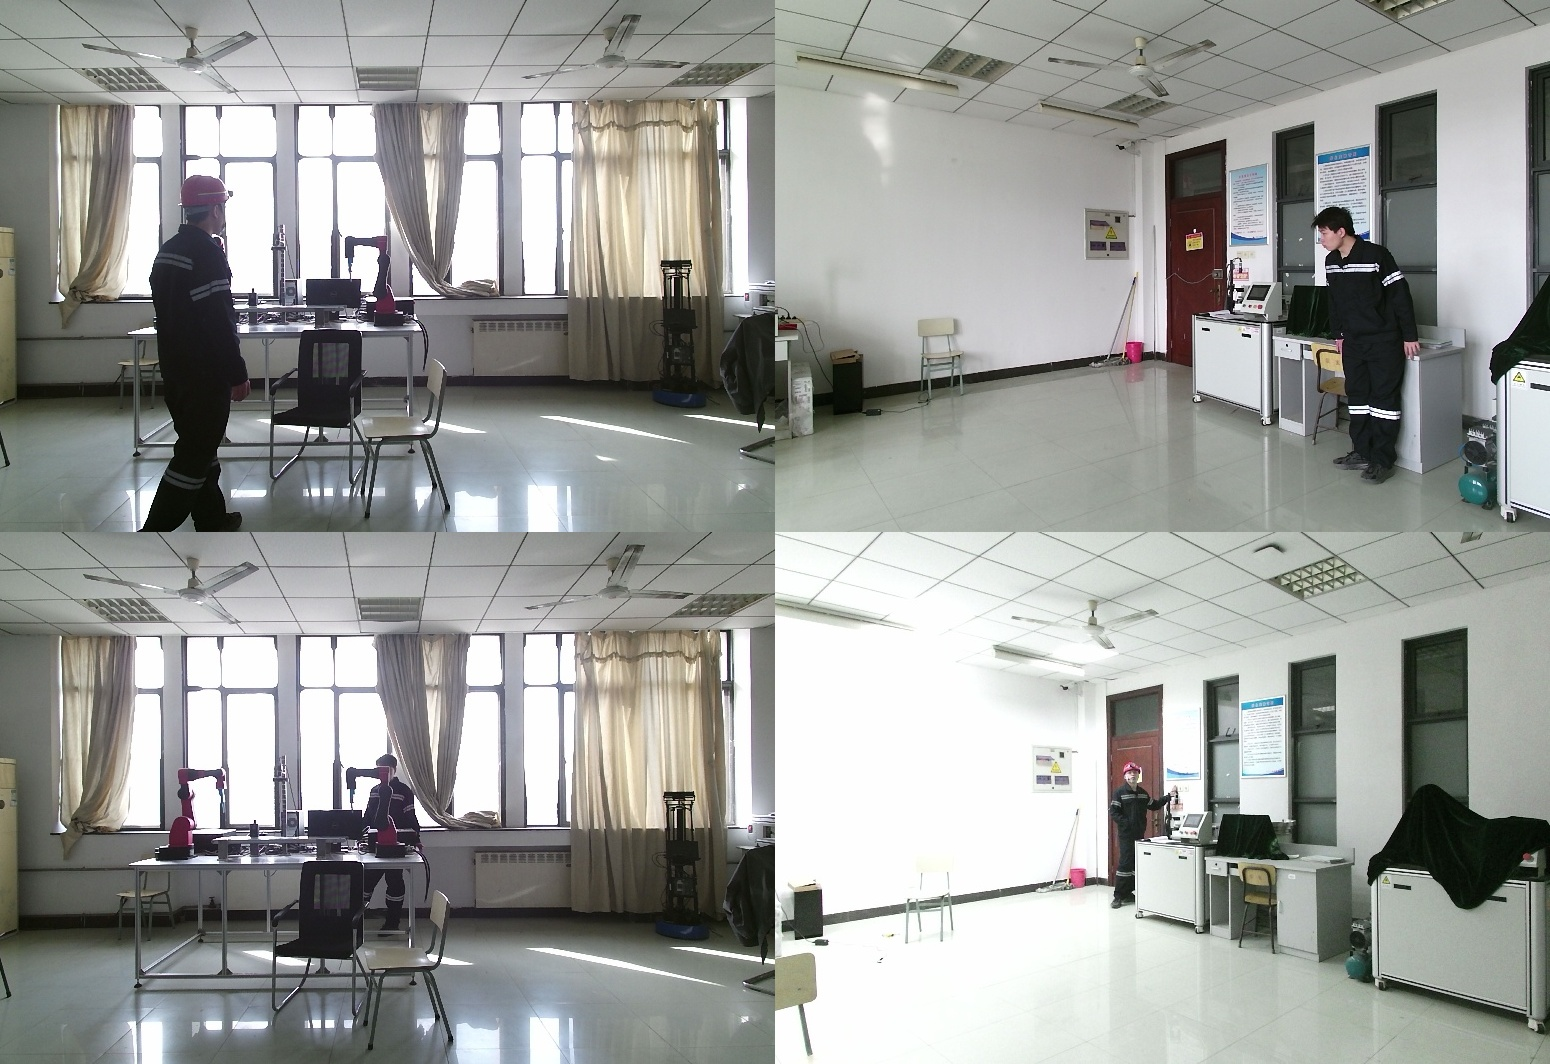person: (138, 176, 258, 532), (1314, 207, 1426, 481), (362, 758, 422, 939), (1107, 762, 1170, 908)
